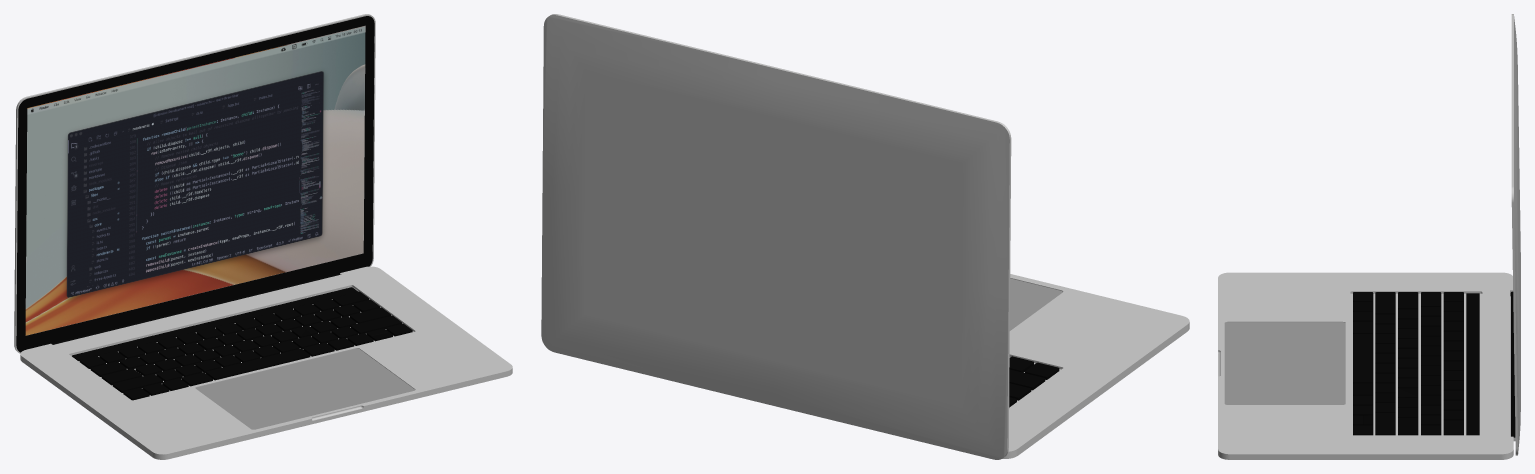
File: mac-draco.glb
The picture shows the model from 3 angles, left to right: view 1: azimuth 30°, elevation 25°; view 2: azimuth 150°, elevation 25°; view 3: azimuth 270°, elevation 25°; orthographic projection. The views are drawn at different scales.
Parts seen in each view (by area): view 1: screen, base, keyboard, touchbar; view 2: screen, base, keyboard; view 3: base, keyboard, screen, touchbar.
Part boxes in pixels (bbox=[...]): screen: bbox=[14, 14, 375, 353]; base: bbox=[20, 266, 512, 459]; keyboard: bbox=[79, 291, 412, 400]; touchbar: bbox=[72, 287, 358, 360]; screen: bbox=[541, 14, 1011, 459]; base: bbox=[1002, 274, 1189, 458]; keyboard: bbox=[1009, 356, 1059, 407]; base: bbox=[1218, 272, 1513, 459]; keyboard: bbox=[1353, 292, 1463, 435]; screen: bbox=[1510, 14, 1520, 455]; touchbar: bbox=[1466, 293, 1479, 435].
Size of the model in its own units: 8.81 by 6.16 by 6.2.
6 materials, 1 textured.
